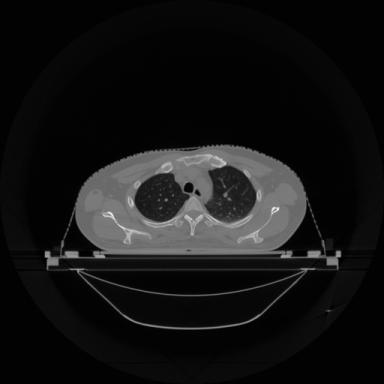body: (76, 146, 306, 251)
cord: (184, 214, 203, 235)
paru kanan: (135, 173, 189, 222)
paru kiri: (206, 166, 256, 222)
